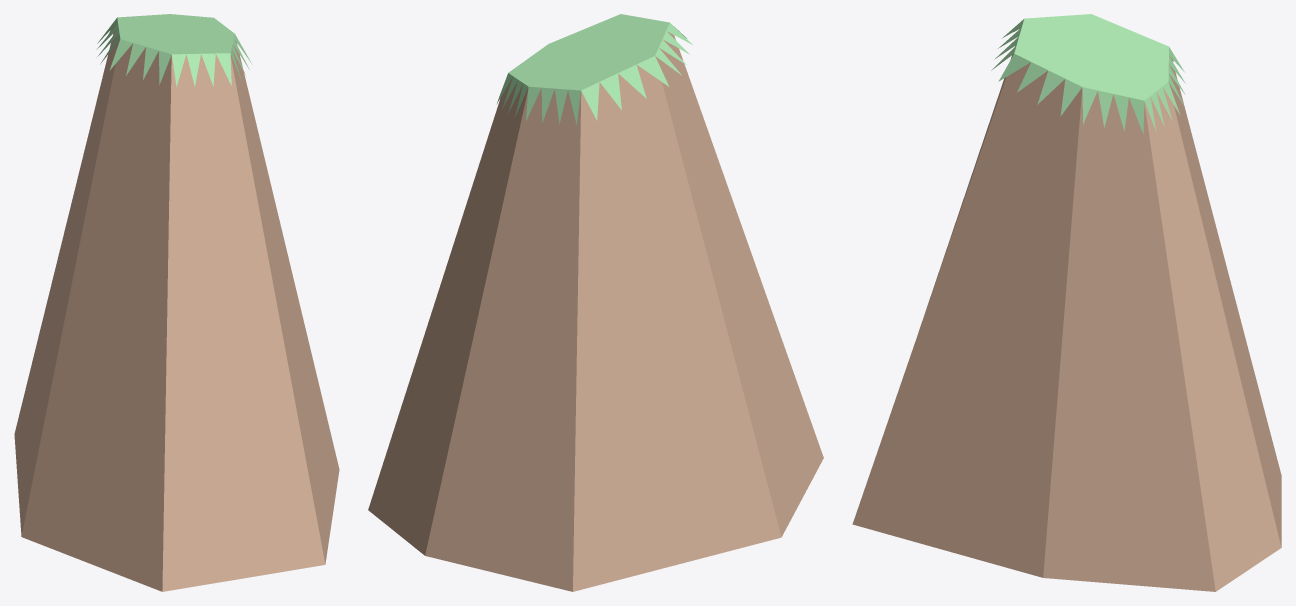
File: simple_island_3.glb
3 views of the same model, side by side, from view 1: azimuth 30°, elevation 25°; view 2: azimuth 150°, elevation 25°; view 3: azimuth 270°, elevation 25° (orthographic).
Visible parts, largest first — view 1: ND — Sketch.002; view 2: ND — Sketch.002; view 3: ND — Sketch.002.
Boxes of the visible parts, left/top/right/bottom form: ND — Sketch.002: left=14, top=14, right=339, bottom=591; ND — Sketch.002: left=368, top=14, right=823, bottom=591; ND — Sketch.002: left=852, top=14, right=1281, bottom=591.
Size of what is drawn, in the model's own units: 18.41 by 24.36 by 20.08.
